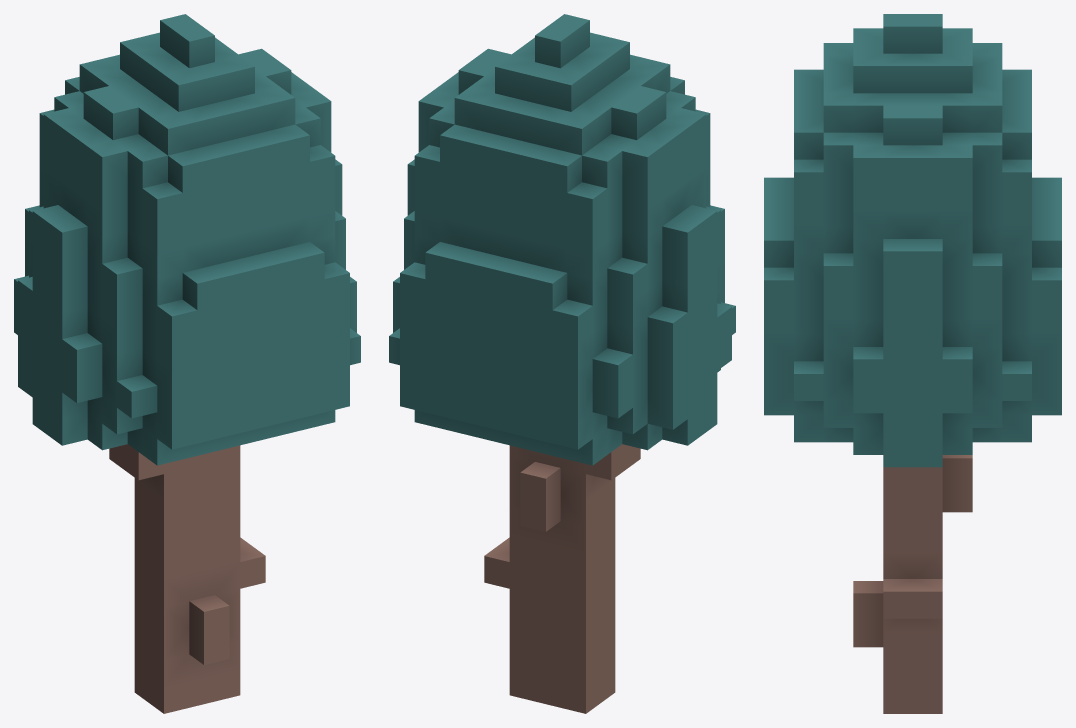
File: tree_dark.glb
3 views of the same model, side by side, from view 1: azimuth 30°, elevation 25°; view 2: azimuth 150°, elevation 25°; view 3: azimuth 270°, elevation 25° (orthographic).
Parts seen in each view (by area): view 1: voxels; view 2: voxels; view 3: voxels.
Part boxes in pixels (x1,y1,x2,y2): voxels: (14,14,360,713); voxels: (389,14,735,713); voxels: (764,14,1061,713).
Bounding box in the file's own units: 0.7828 × 1.78 × 0.7115.
